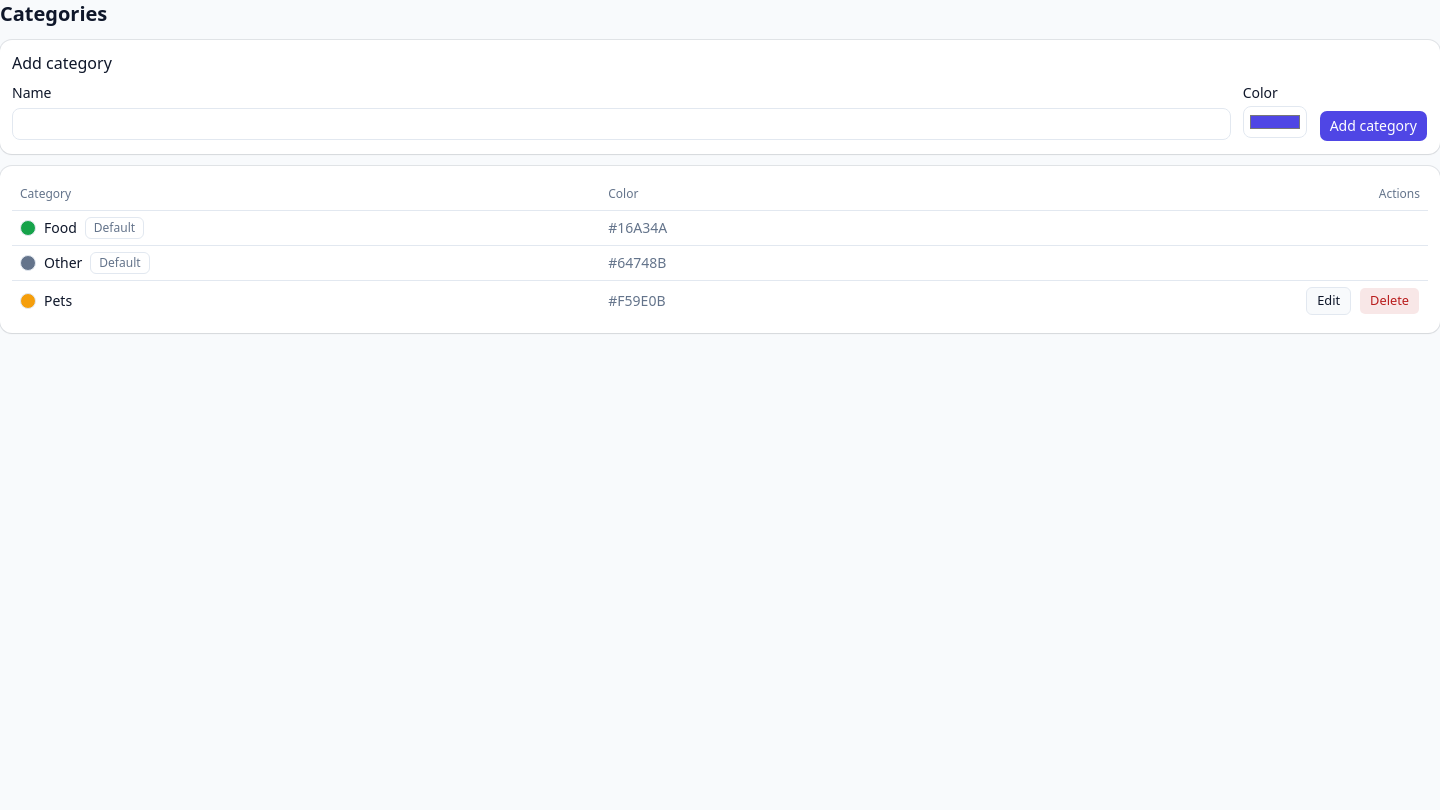
Test: CategoriesPage › deletes after confirmation, mentioning the move to Other
The width and height of the screenshot is (1440, 810).
expect the text "Pets" is shown: met, box [44, 290, 72, 310]
Click the button with aria-label "Delete Pets". click: point(1390, 300)
box: [1359, 286, 1420, 314]
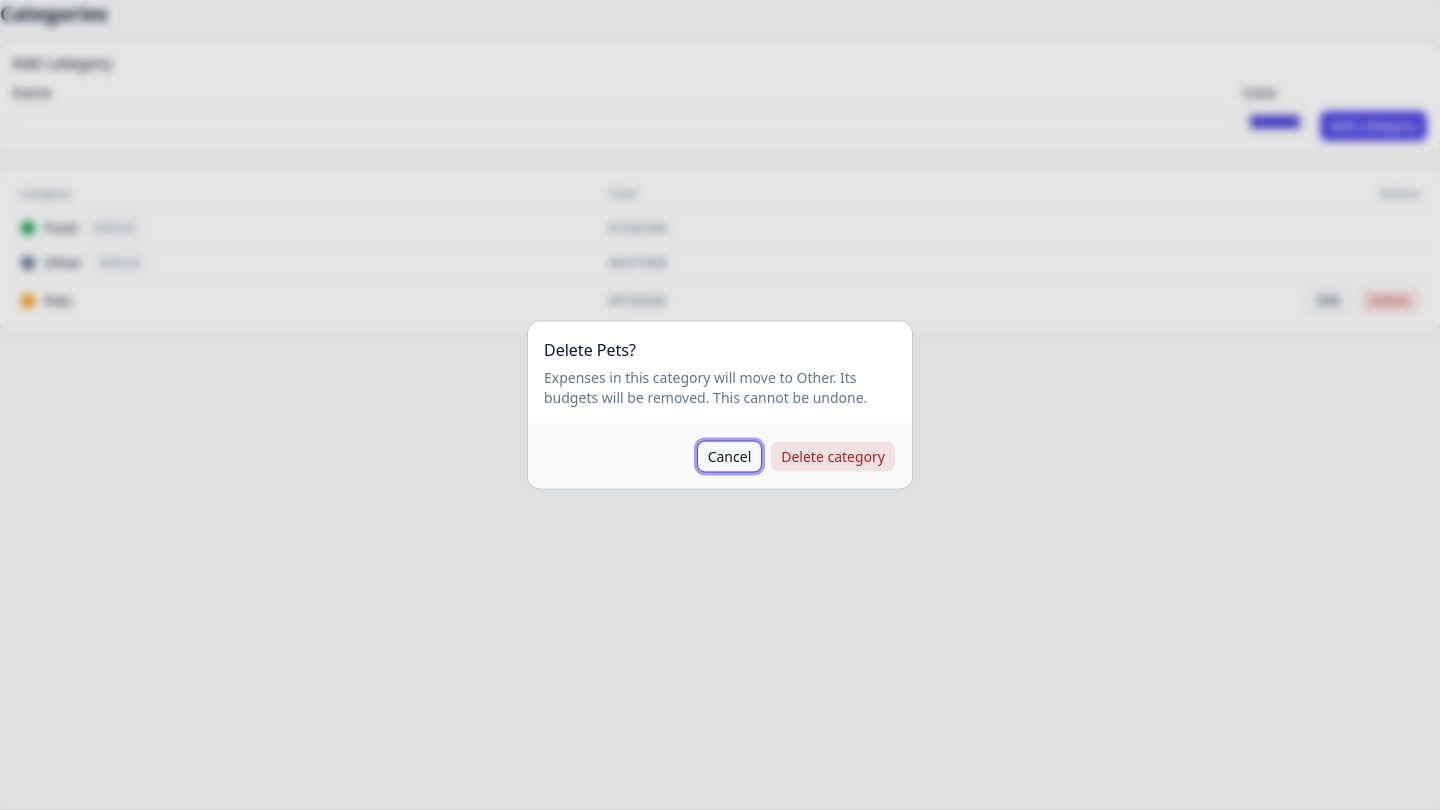
expect the text "Expenses in this category will move to Other" is shown: met, box [544, 368, 867, 406]
Click the button "Delete category". click: point(833, 456)
box: [770, 440, 896, 472]
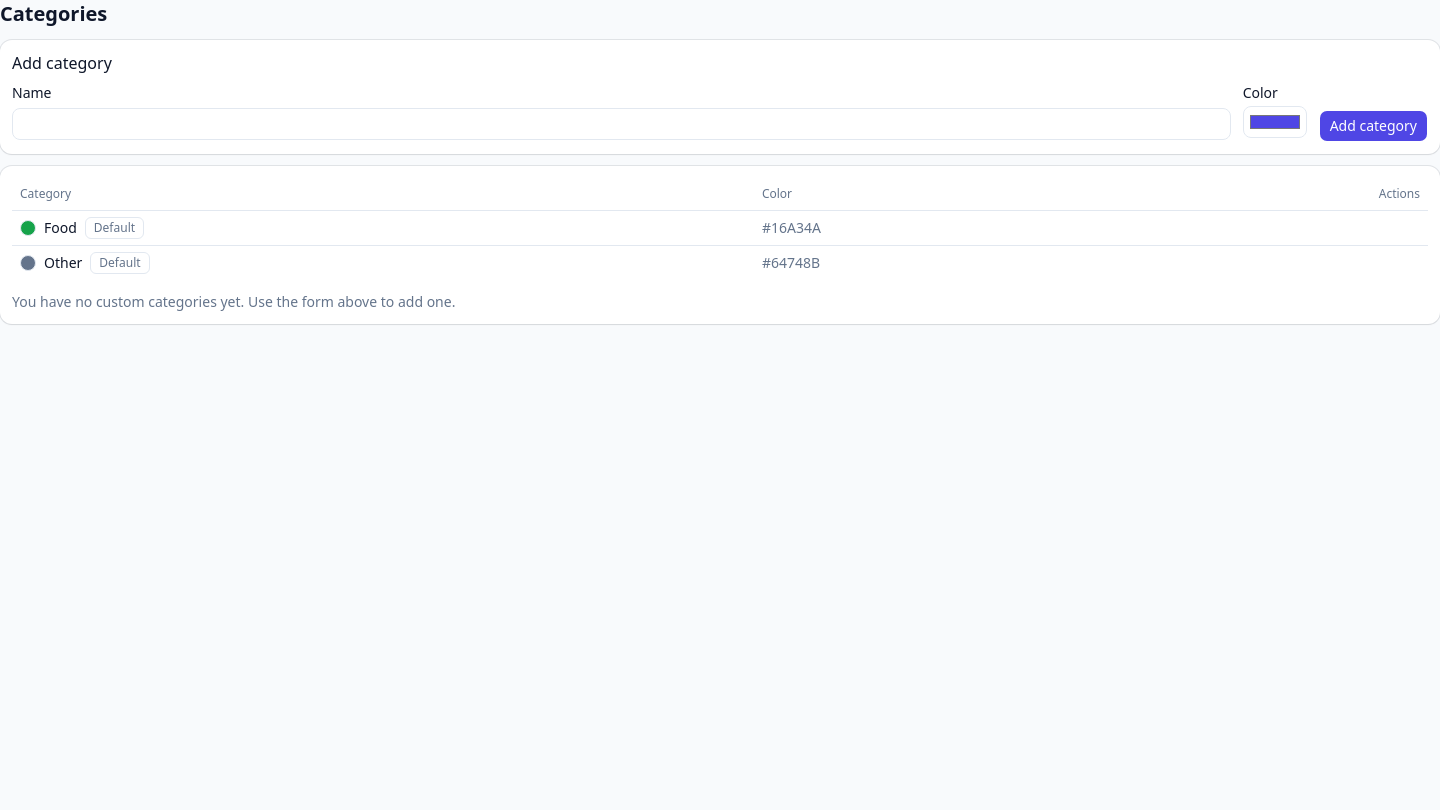
expect the text "Pets" is gone: met
